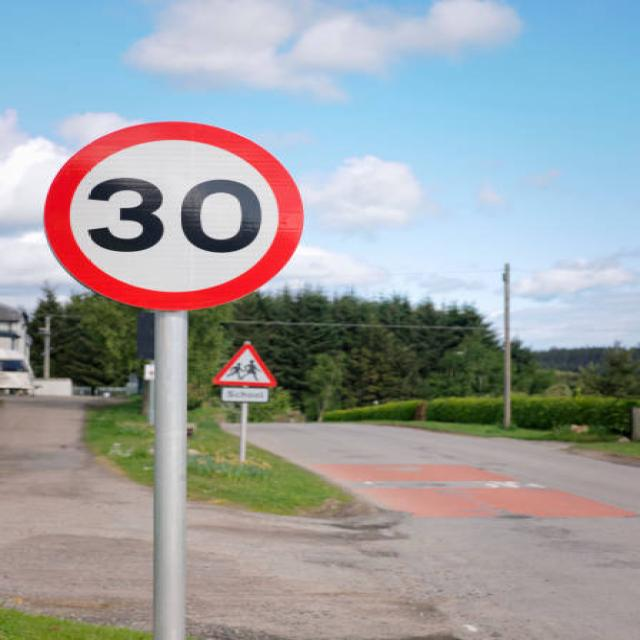Speed limit 30: (41, 119, 307, 314)
